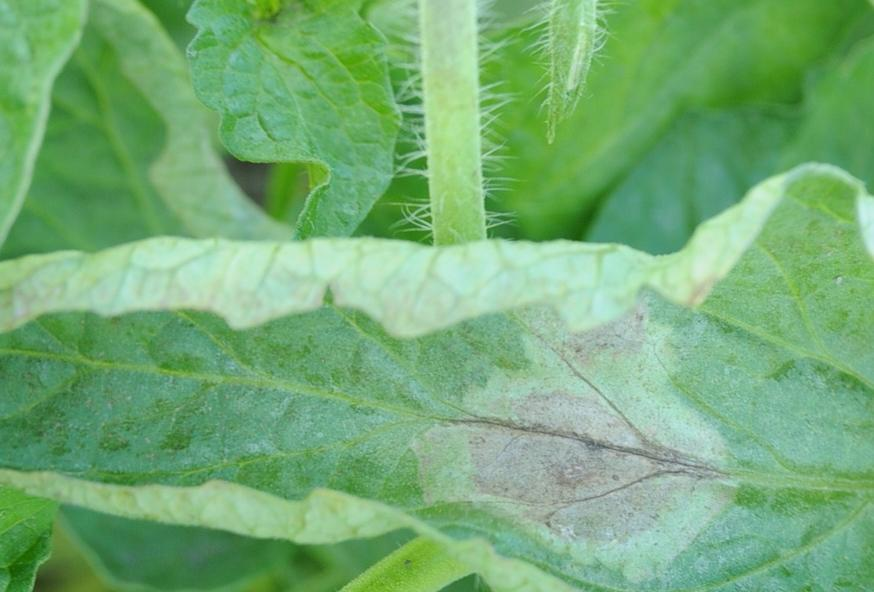Tomato leaf late blight: (0, 221, 874, 592)
